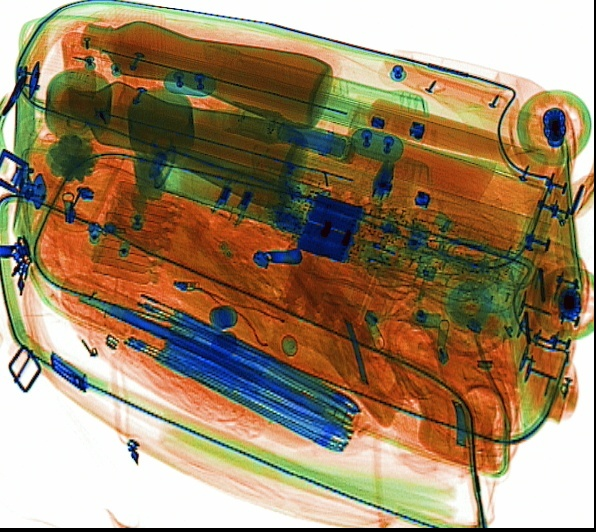pressure: (145, 145, 299, 228)
